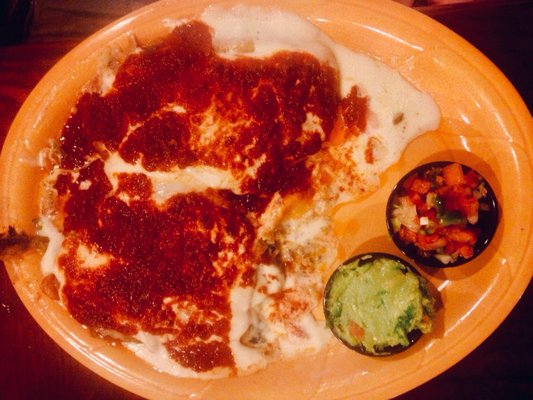curry: (6, 0, 533, 399)
sandwich: (6, 0, 457, 397)
